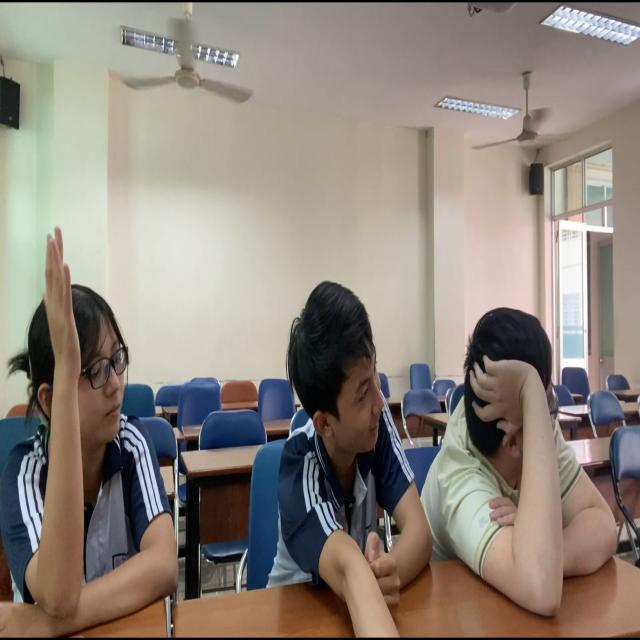raise_hand: (1, 214, 188, 640)
